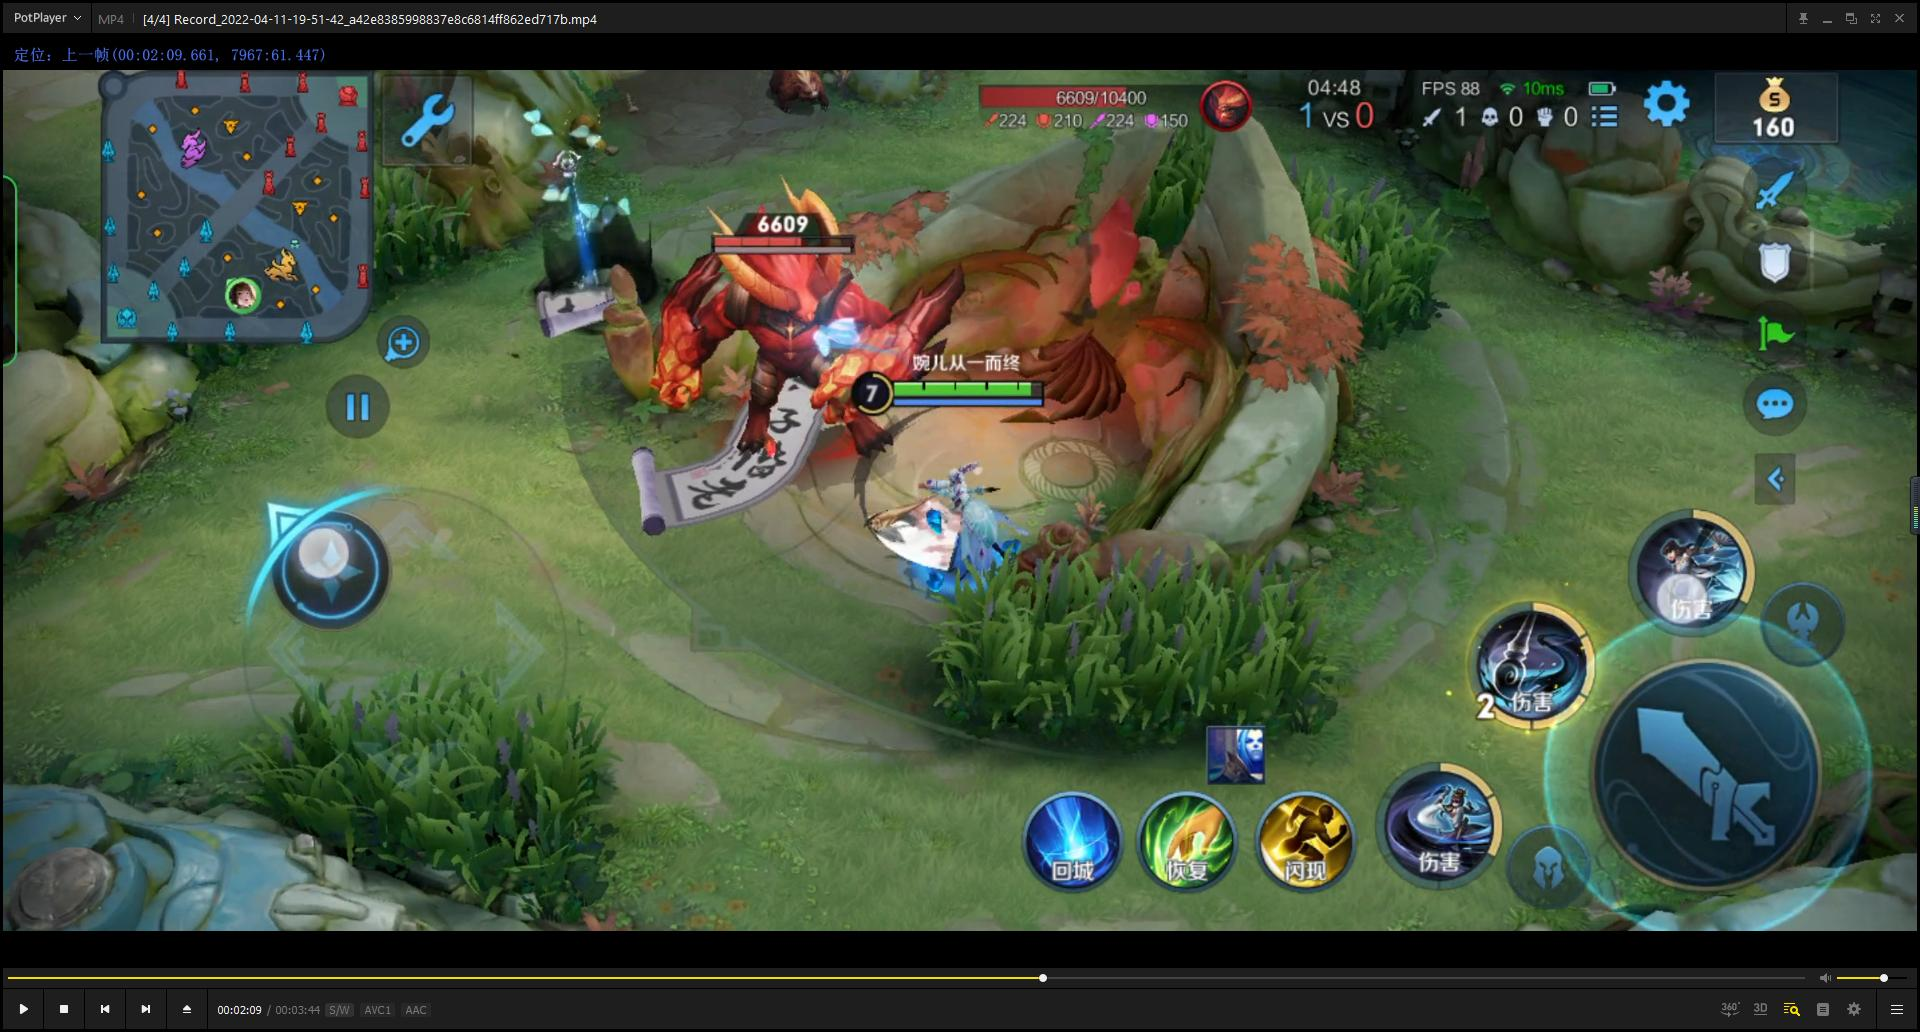Buff: (635, 202, 994, 485)
Hero: (874, 437, 1019, 599)
Pig: (756, 67, 835, 118)
